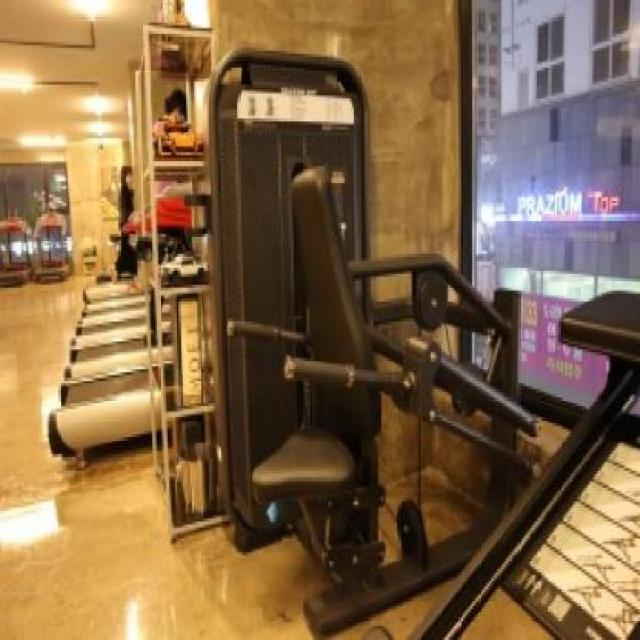seated dip machine: (208, 51, 520, 526)
